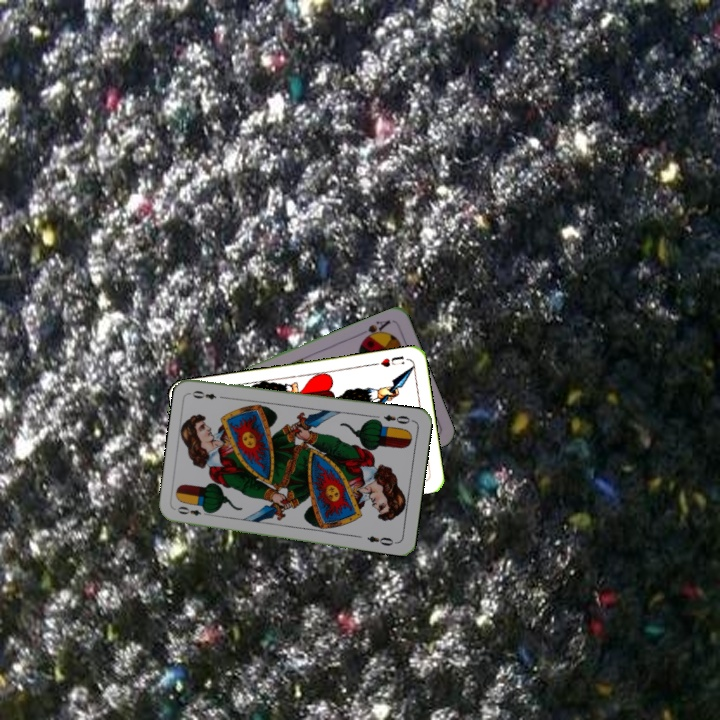EO: (173, 502, 213, 518), (380, 410, 412, 427)
HU: (370, 352, 406, 370)
SA: (355, 316, 393, 344)
